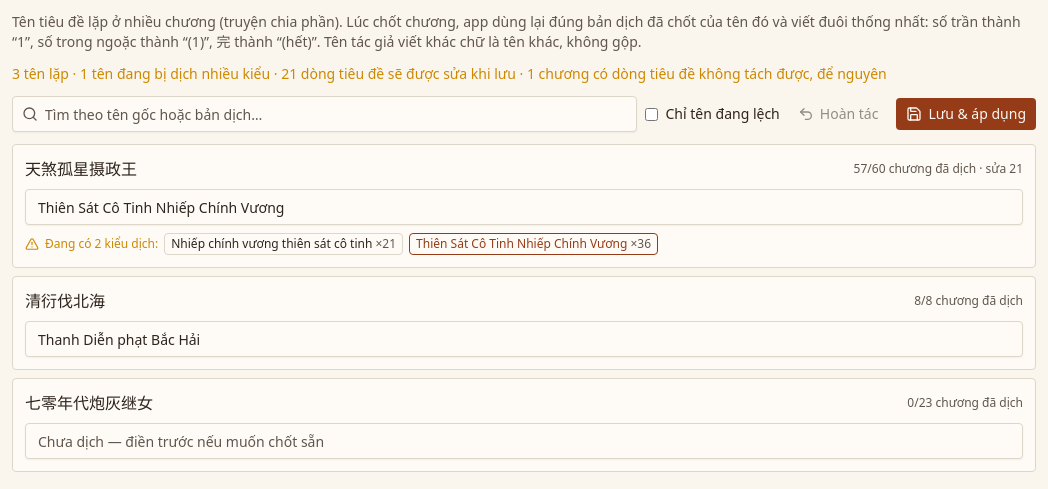
Test: TitlesPanel › liệt kê tên lặp, tên đang lệch kiểu dịch và số dòng sẽ sửa; lọc chỉ tên lệch
Expected: the text "天煞孤星摄政王" is shown, [25,158,137,180]
Expected: the message shows "3 tên lặp · 1 tên đang bị dịch nhiều kiểu · 21 dòng tiêu đề sẽ được sửa khi lưu · 1 chương có dòng tiêu đề không tách được, để nguyên", [12,64,1036,84]
Click the checkbox labelled "Chỉ tên đang lệch".
click(651, 114)  # box [644,108,658,120]
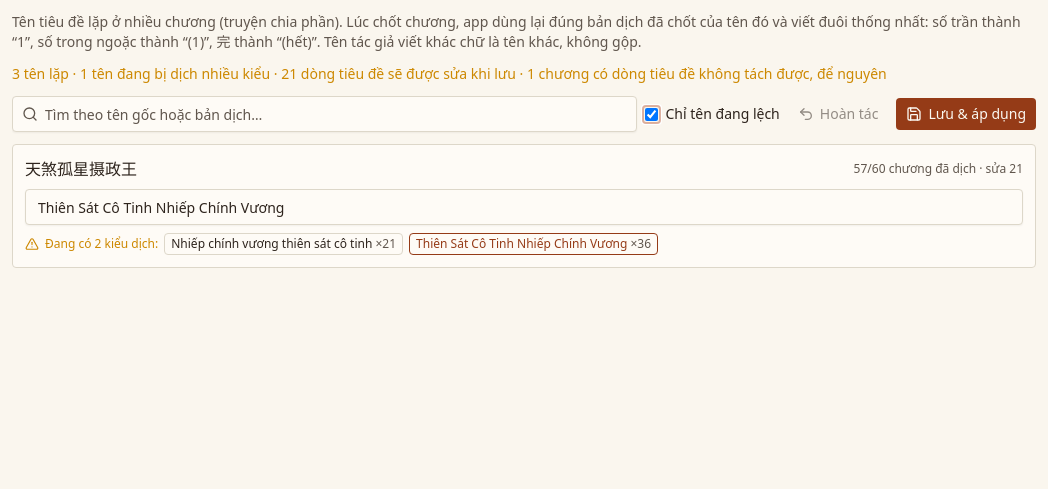
Expected: the text "天煞孤星摄政王" is shown, [25,158,137,180]
Expected: the text "清衍伐北海" is gone
